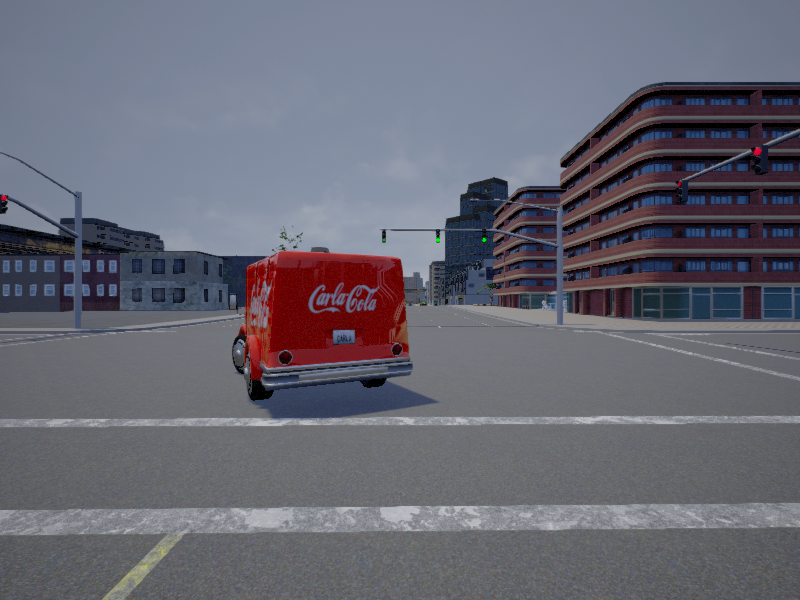Benign: (234, 249, 417, 399)
